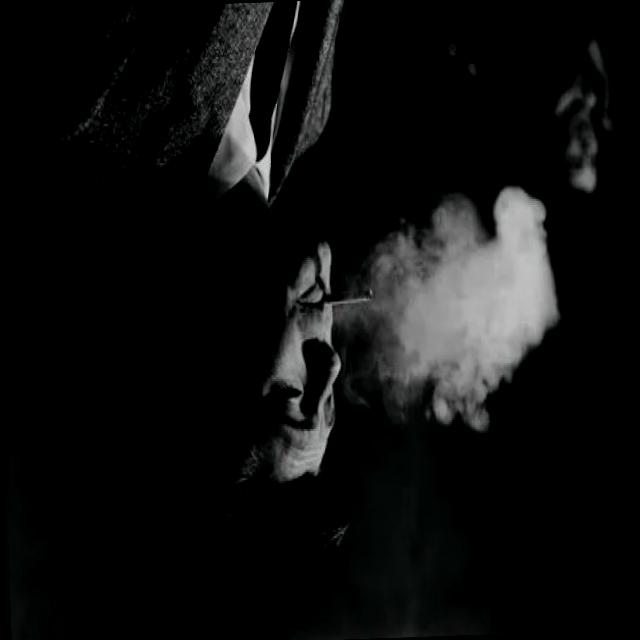smoke: (312, 281, 379, 314)
